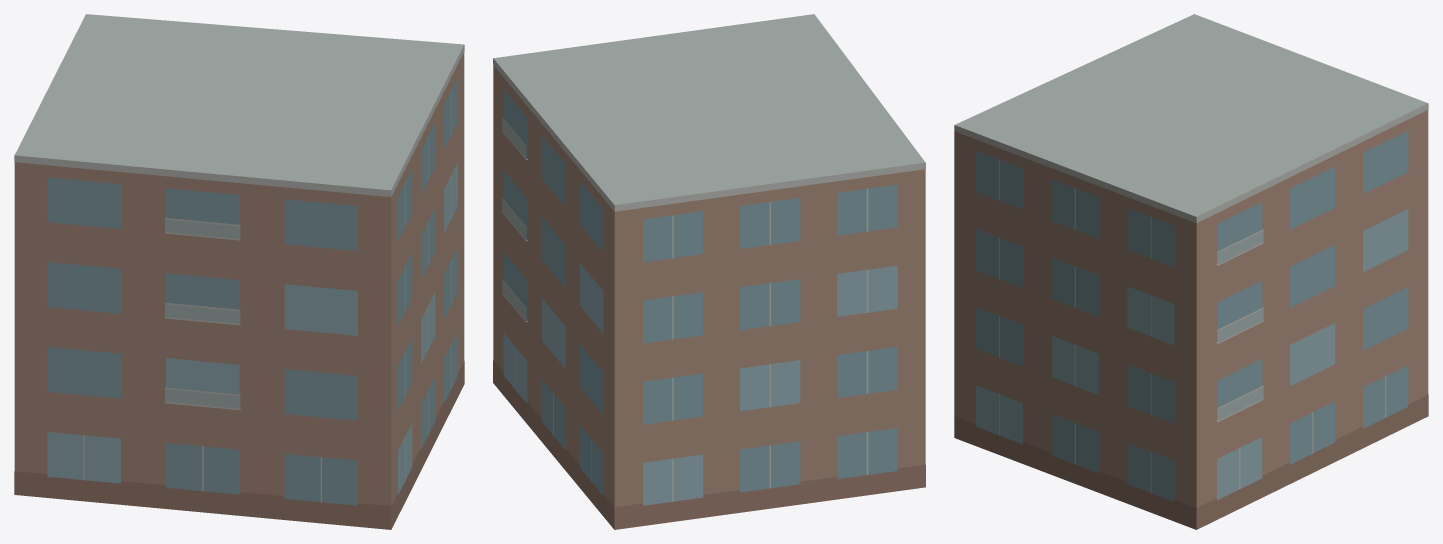
The model's file is survey-upis-32669063.glb.
The picture shows the model from 3 angles, left to right: view 1: azimuth 30°, elevation 25°; view 2: azimuth 150°, elevation 25°; view 3: azimuth 270°, elevation 25°; orthographic projection. The views are drawn at different scales.
Visible parts, largest first — view 1: survey-upis-32669063.tmp; view 2: survey-upis-32669063.tmp; view 3: survey-upis-32669063.tmp.
Part boxes in pixels (x1,y1,x2,y2): survey-upis-32669063.tmp: (14, 14, 464, 529); survey-upis-32669063.tmp: (493, 14, 925, 529); survey-upis-32669063.tmp: (954, 14, 1428, 529).
Size of the model in its own units: 16.98 by 12.2 by 16.76.
